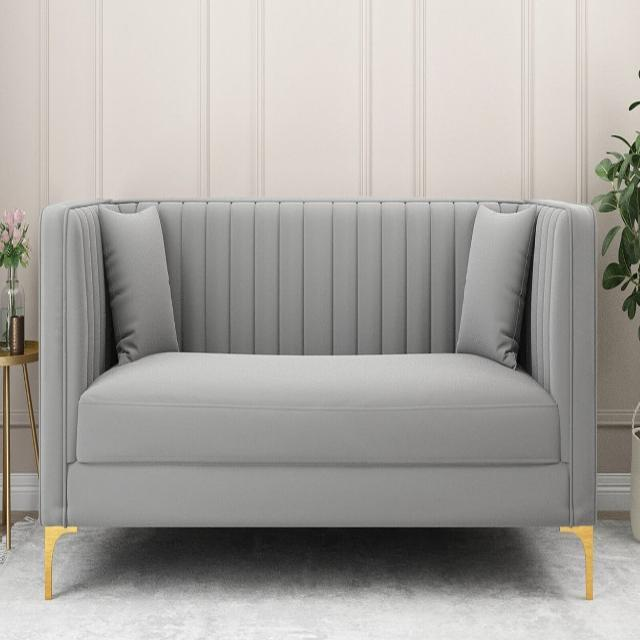sofa: (37, 195, 598, 602)
